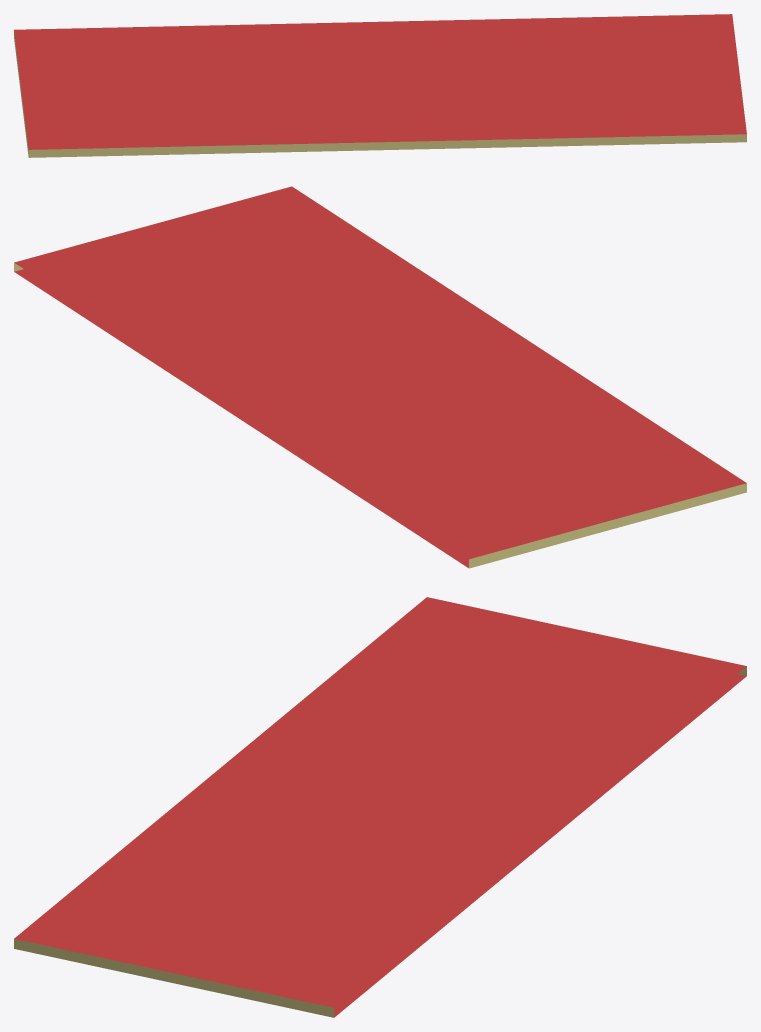
3 views of the same model, one above another, from view 1: azimuth 30°, elevation 25°; view 2: azimuth 150°, elevation 25°; view 3: azimuth 270°, elevation 25° (orthographic). The views are drawn at different scales.
Size of the model in its own units: 8.75 by 6.6 by 0.1.
